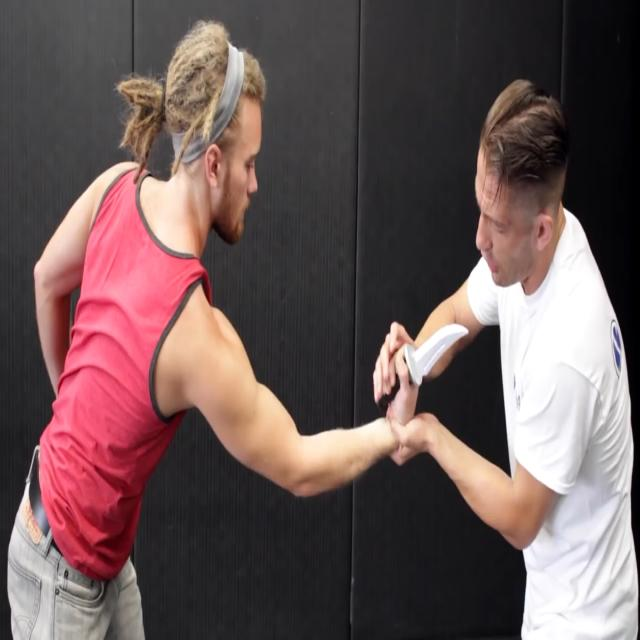knife: (407, 314, 473, 396)
